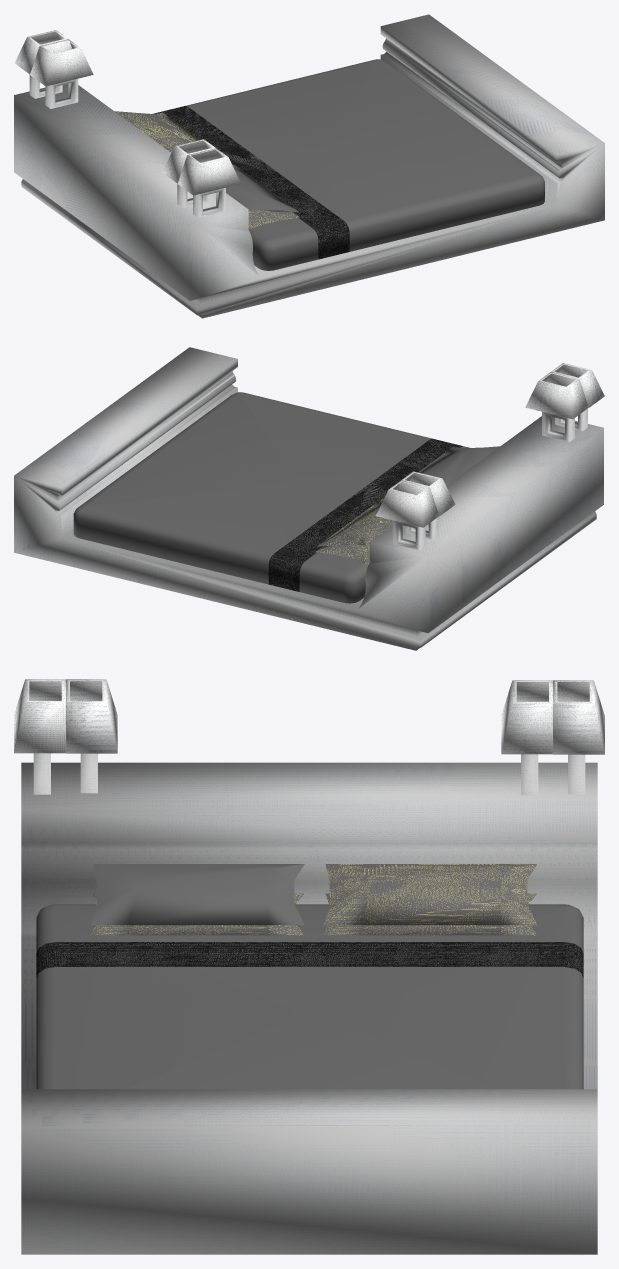
The picture shows the model from 3 angles, top to bottom: view 1: azimuth 30°, elevation 25°; view 2: azimuth 150°, elevation 25°; view 3: azimuth 270°, elevation 25°; orthographic projection. The views are drawn at different scales.
Parts seen in each view (by area): view 1: SketchUp, group_3 (×3), lamp (×6), pillow_1 (×3); view 2: SketchUp, group_3 (×3), lamp (×6), pillow_1 (×3); view 3: SketchUp, group_3 (×3), pillow_1 (×4), lamp (×6).
Boxes of the visible parts, x1,y1,x2,y2 form: SketchUp: (14, 14, 604, 318); group_3 (×3): (153, 59, 544, 270); lamp (×6): (14, 30, 240, 217); pillow_1 (×3): (115, 111, 299, 228); SketchUp: (14, 347, 603, 650); group_3 (×3): (73, 392, 469, 603); lamp (×6): (376, 363, 604, 550); pillow_1 (×3): (316, 446, 499, 564); SketchUp: (21, 762, 597, 1254); group_3 (×3): (36, 904, 583, 1089); pillow_1 (×4): (91, 864, 537, 935); lamp (×6): (14, 679, 604, 795).
Bounding box in the file's own units: 133 × 100 × 47.21.
